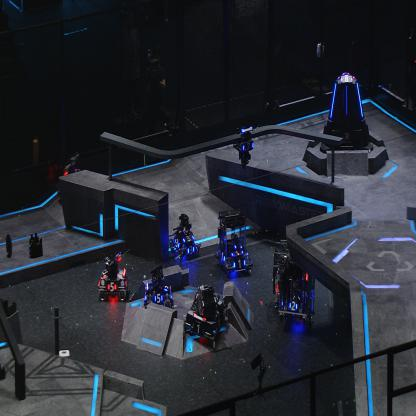car: (183, 282, 228, 348), (276, 249, 315, 324), (215, 209, 253, 280), (272, 240, 310, 308), (97, 249, 129, 302), (144, 265, 174, 313), (169, 212, 200, 258), (58, 151, 86, 195)
